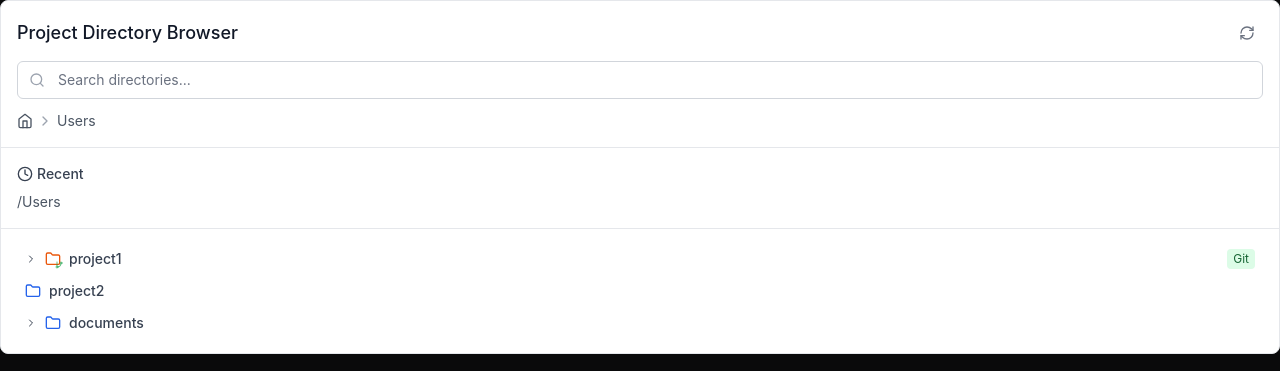
Scenario: DirectoryBrowser › should filter search results correctly
Check: the text "project1" is shown, box [69,250,122,267]
Type "project1" into the field with placeholder "Search directories..." at (640, 80), box [17,61,1263,99]
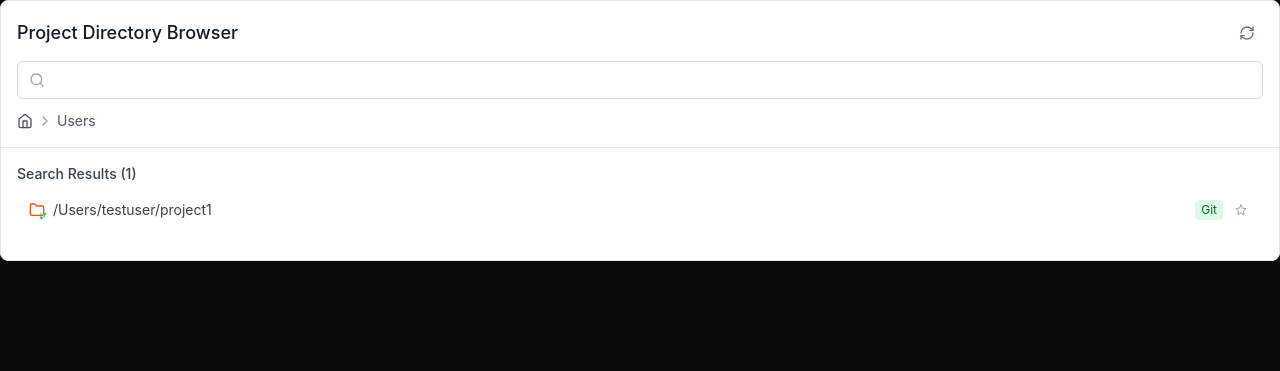
Check: the heading "Search Results (1)" is shown, box [17,165,137,182]
